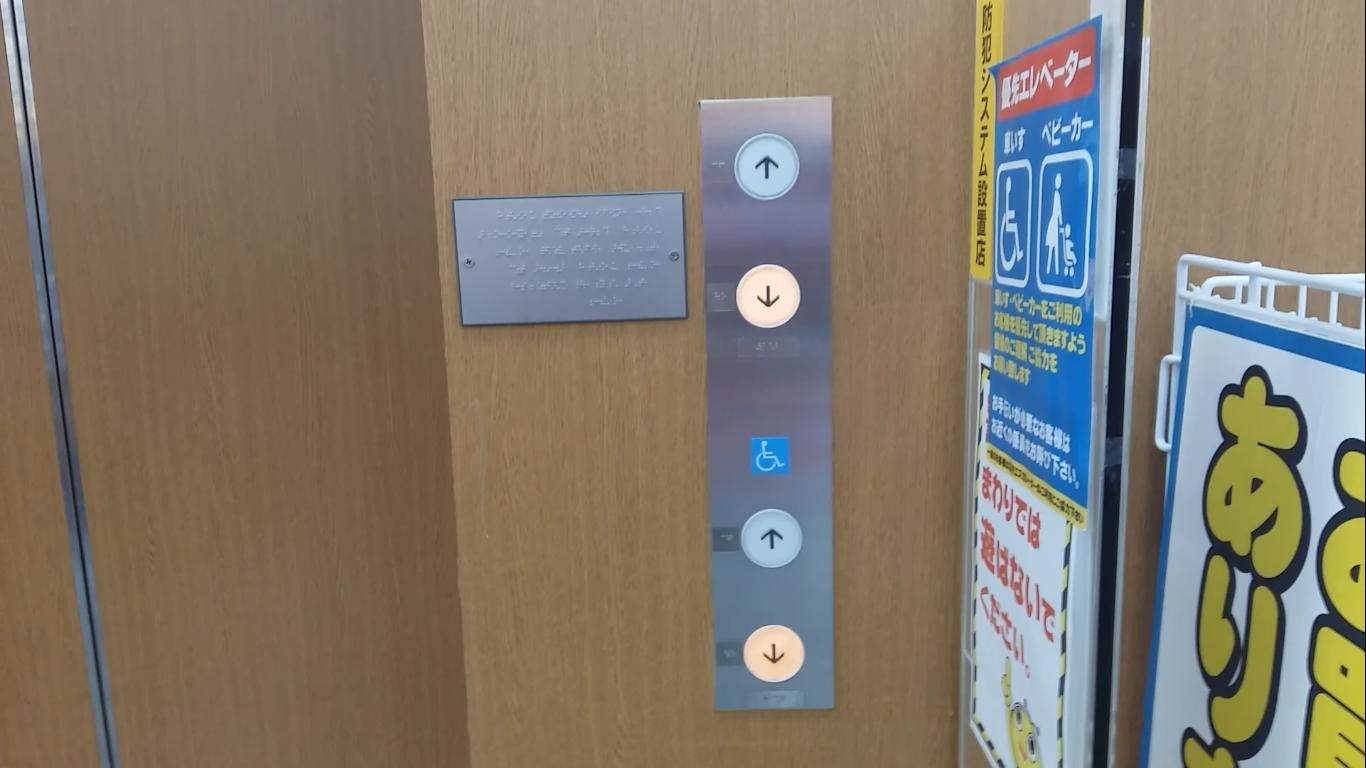CH: (742, 429, 798, 480)
down: (733, 259, 804, 331), (738, 621, 811, 686)
up: (727, 126, 807, 205), (736, 506, 809, 570)
